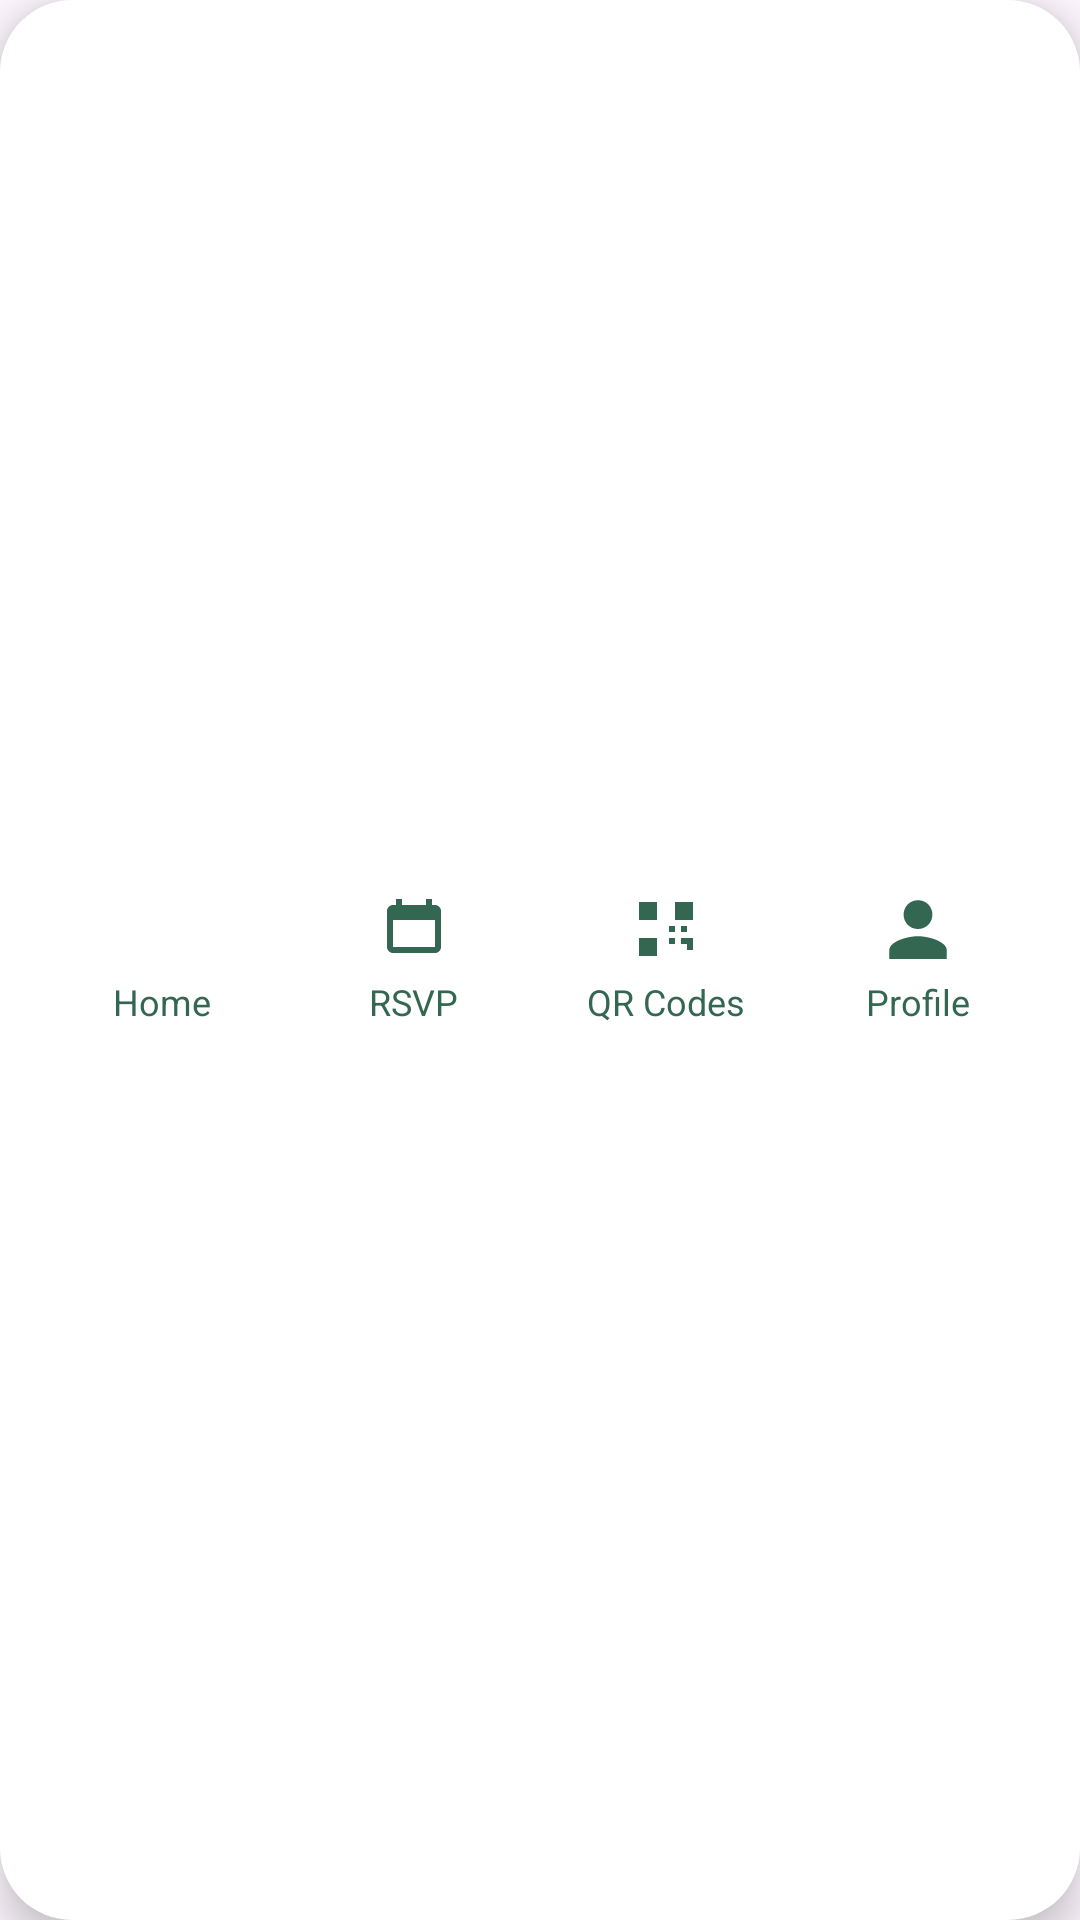

Locate icon controls on the screen. Image size 1080w x 1920h, boxes as bbox=(x1, y1, x2, y2).
calendar: bbox=(387, 899, 441, 953)
